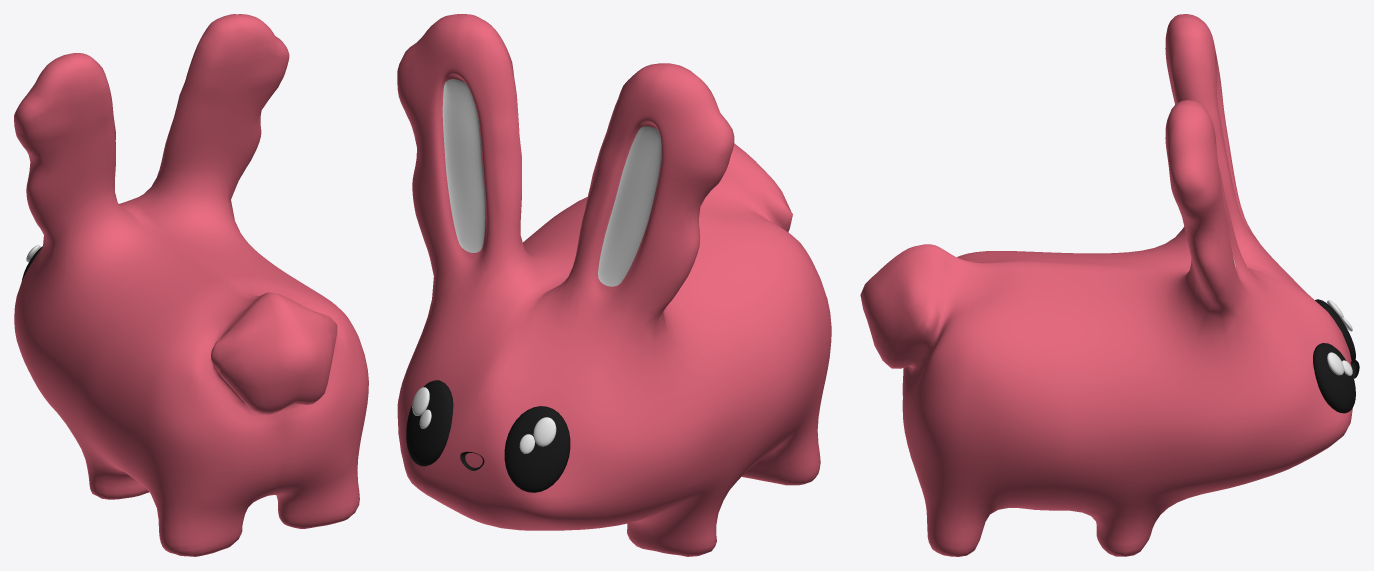
File: e-bunny -sin-animacion.fbx
3 views of the same model, side by side, from view 1: azimuth 30°, elevation 25°; view 2: azimuth 150°, elevation 25°; view 3: azimuth 270°, elevation 25° (orthographic). The views are drawn at different scales.
Visible parts, largest first — view 1: conejo.001; view 2: conejo.001; view 3: conejo.001.
Part boxes in pixels (bbox=[...]): conejo.001: bbox=[14, 14, 368, 556]; conejo.001: bbox=[397, 14, 831, 556]; conejo.001: bbox=[860, 14, 1359, 556].
Bounding box in the file's own units: 175 × 262 × 260.
